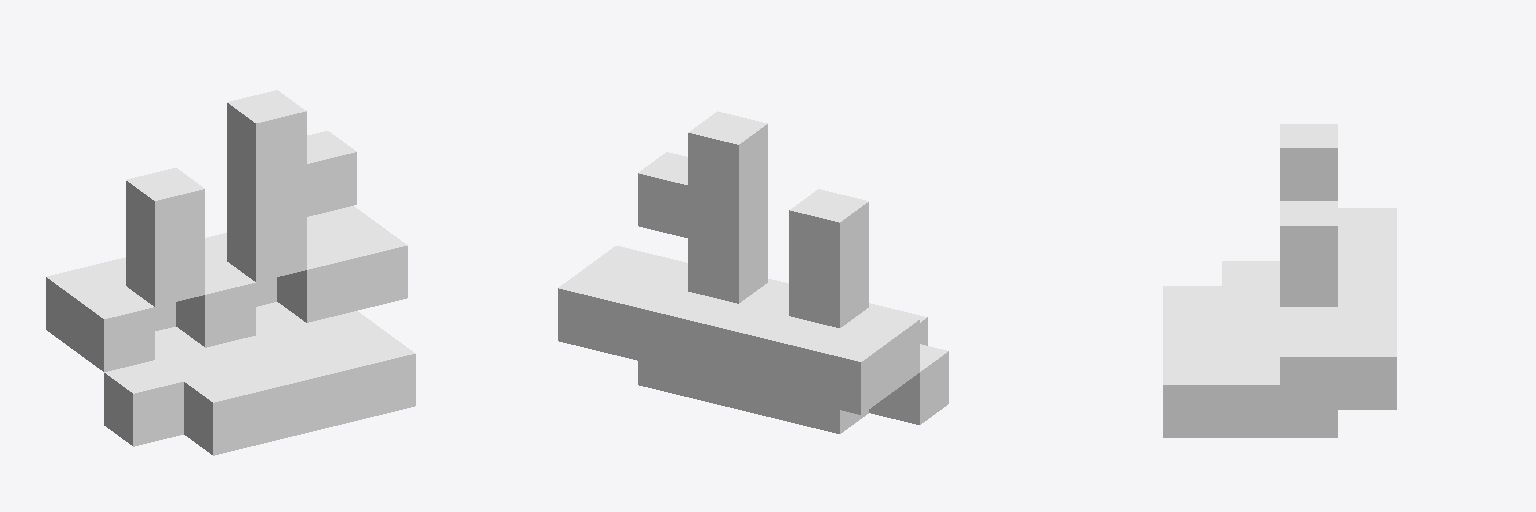
The model's file is YellowHouseParts-55.obj.
3 views of the same model, side by side, from view 1: azimuth 30°, elevation 25°; view 2: azimuth 150°, elevation 25°; view 3: azimuth 270°, elevation 25° (orthographic).
Parts seen in each view (by area): view 1: object 1; view 2: object 1; view 3: object 1.
Boxes of the visible parts, box(x1,y1,x2,y2) form: object 1: box(46, 90, 415, 455); object 1: box(558, 111, 948, 433); object 1: box(1163, 124, 1396, 437).
Size of the model in its own units: 0.6 by 0.5 by 0.4.